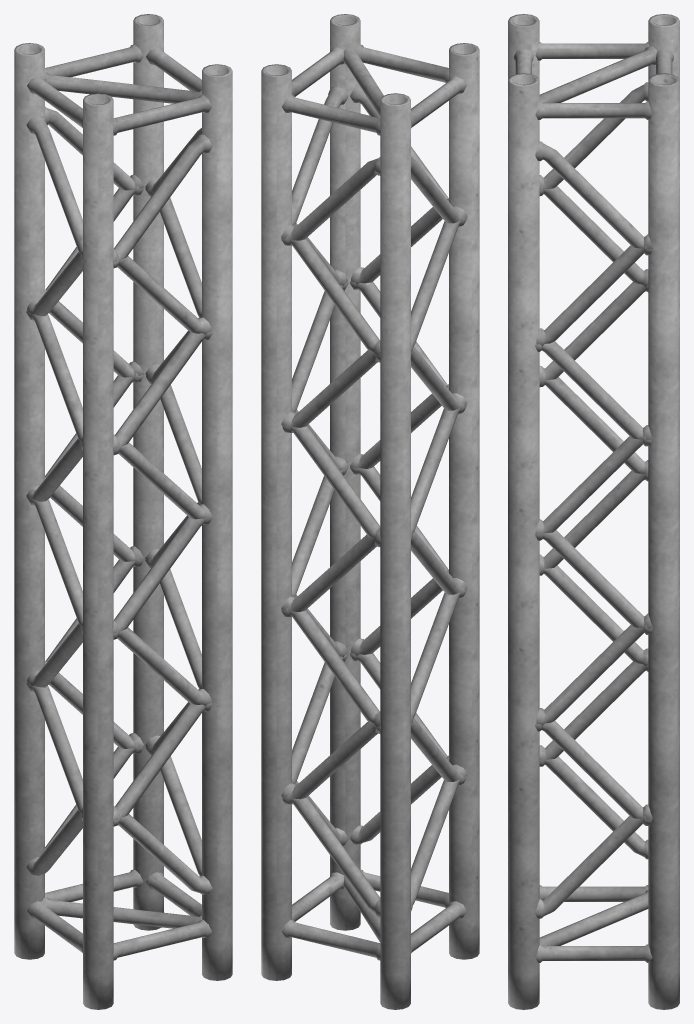
Rendered from Truss.gltf.
The picture shows the model from 3 angles, left to right: view 1: azimuth 30°, elevation 25°; view 2: azimuth 150°, elevation 25°; view 3: azimuth 270°, elevation 25°; orthographic projection. The views are drawn at different scales.
Visible parts, largest first — view 1: Truss; view 2: Truss; view 3: Truss.
Boxes of the visible parts, left/top/right/bottom form: Truss: left=14, top=14, right=232, bottom=1009; Truss: left=261, top=14, right=479, bottom=1009; Truss: left=508, top=14, right=679, bottom=1009.
Size of the model in its own units: 0.3374 by 2 by 0.3374.
